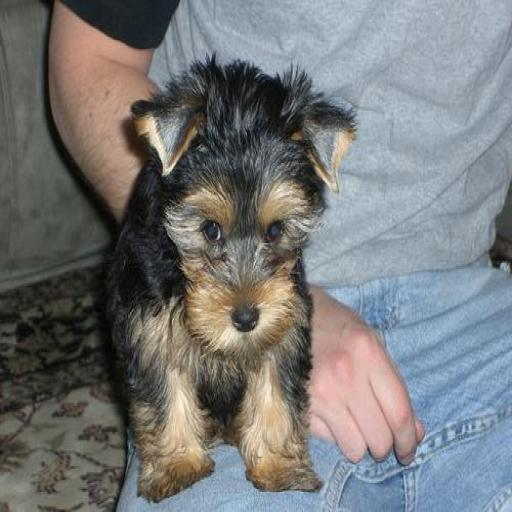dog_face: (134, 86, 344, 340)
